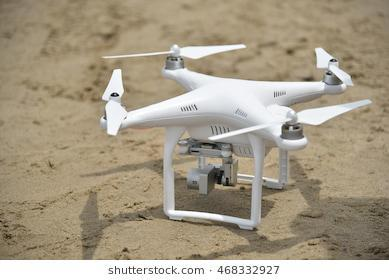drone: (86, 33, 389, 220)
